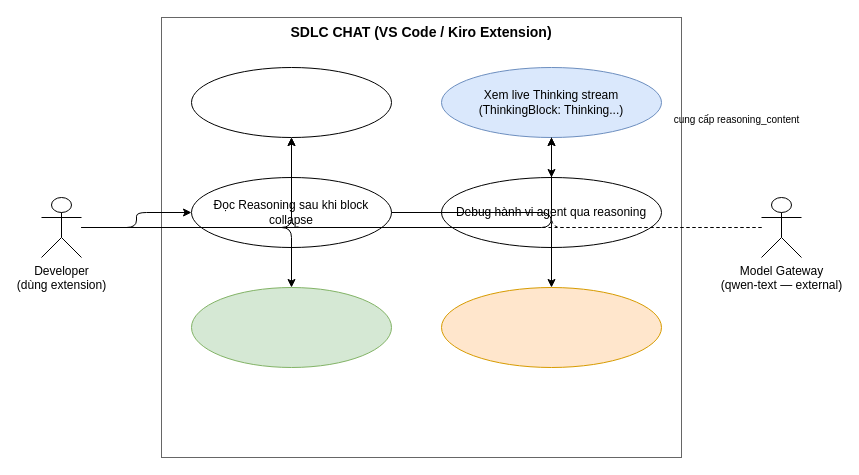
The diagram is 859 pixels wide and 475 high, and some of its shapes have lost their labels. The centre of each missing label's shape, as x and y in pixels:
Dùng chat bình thường khi model không reasoning (không block rỗng): (x=291, y=327)
Gửi prompt và nhận answer stream: (x=291, y=102)
UI ổn định khi stream end / error (block luôn đóng): (x=551, y=327)
